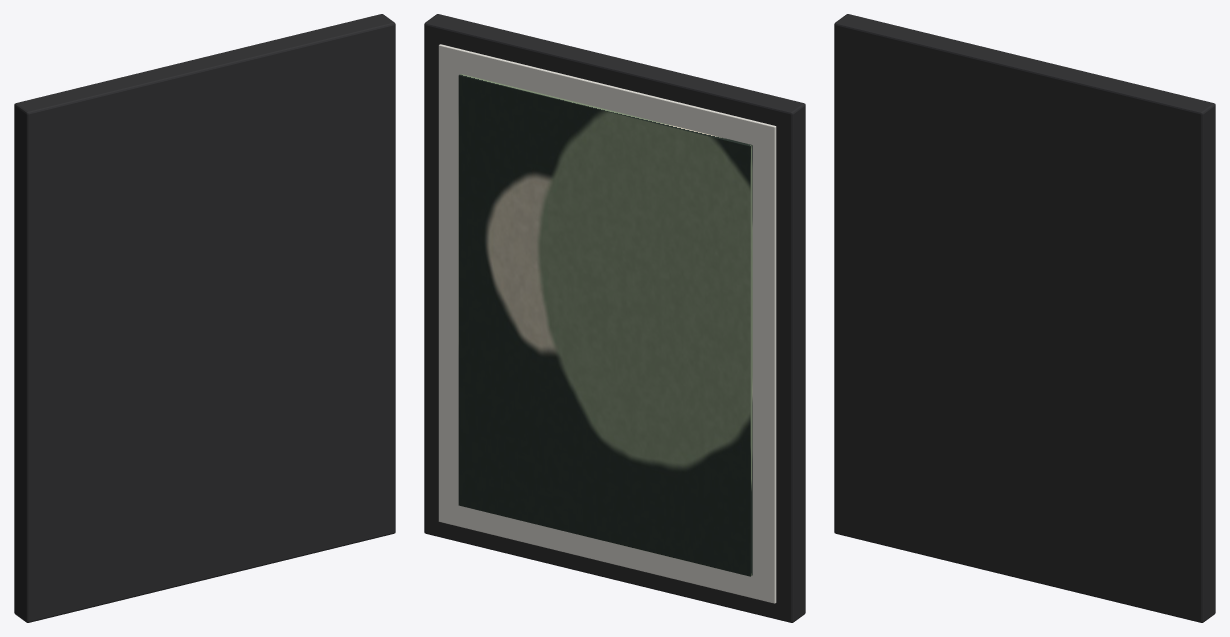
The model's file is corridor_art_1.glb.
The picture shows the model from 3 angles, left to right: view 1: azimuth 30°, elevation 25°; view 2: azimuth 150°, elevation 25°; view 3: azimuth 330°, elevation 25°; orthographic projection.
Visible parts, largest first — view 1: corridor_art_1; view 2: corridor_art_1; view 3: corridor_art_1.
Part boxes in pixels (left/top/right/bottom): corridor_art_1: left=14, top=14, right=395, bottom=622; corridor_art_1: left=424, top=14, right=805, bottom=622; corridor_art_1: left=834, top=14, right=1215, bottom=622.
Size of the model in its own units: 0.62 by 0.82 by 0.05.
3 materials, 1 textured.
